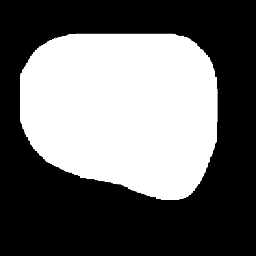mass: (22, 30, 218, 212)
